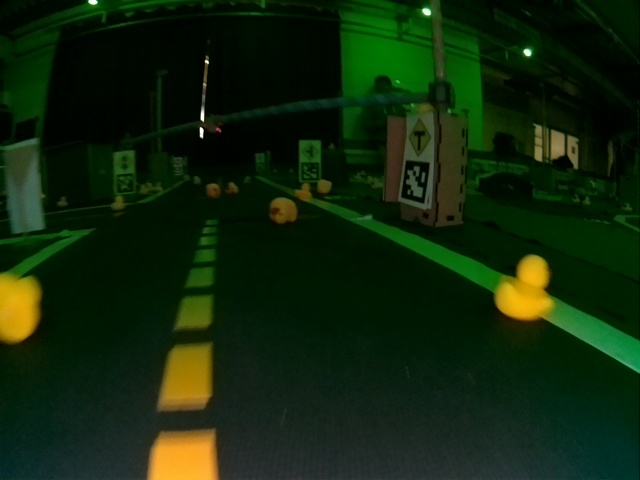Duckie: (494, 254, 552, 320), (2, 274, 42, 341), (270, 198, 296, 221), (298, 184, 311, 200), (206, 184, 221, 195), (319, 180, 331, 193), (113, 198, 123, 210), (58, 196, 67, 206), (231, 183, 238, 193)
Intersection sign: (406, 118, 433, 155), (302, 142, 319, 161)
QR code: (398, 159, 432, 202), (115, 173, 136, 194), (299, 161, 319, 182)
Signal sign: (115, 153, 134, 171)
